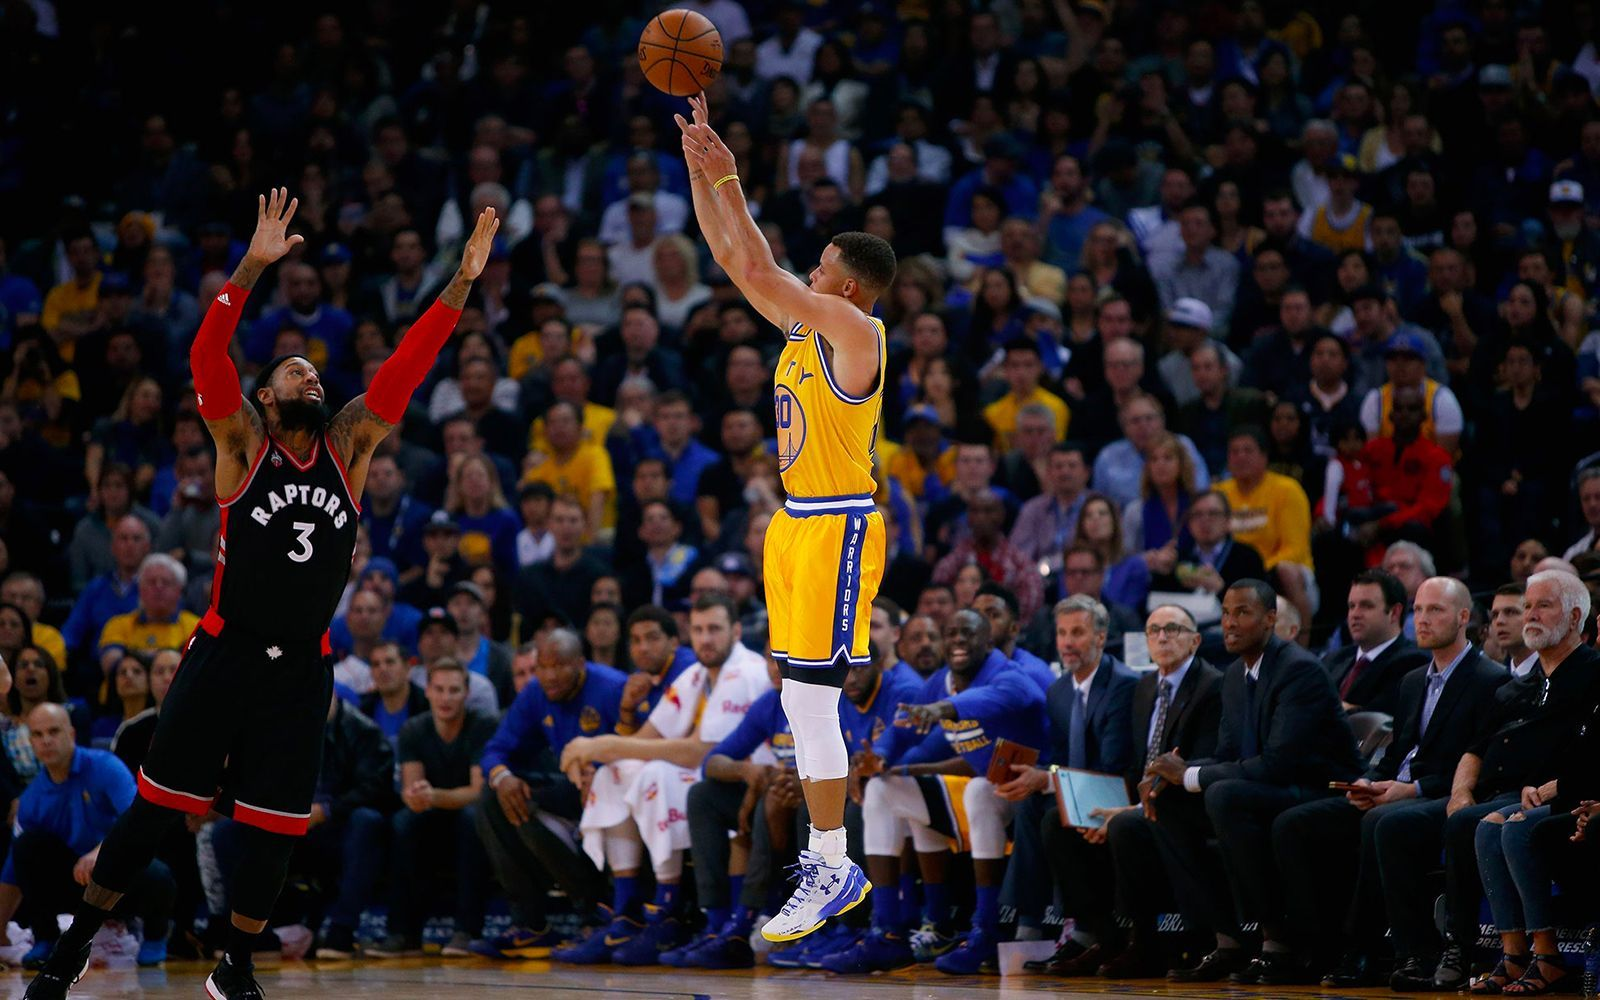Jumpshot: (637, 8, 787, 308)
